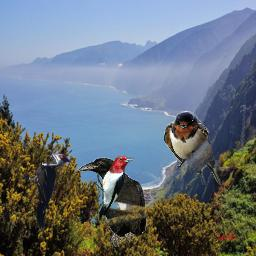Crow: (78, 157, 147, 247)
Swallow: (164, 111, 221, 185)
Woodpecker: (19, 151, 72, 230), (92, 156, 134, 223)
